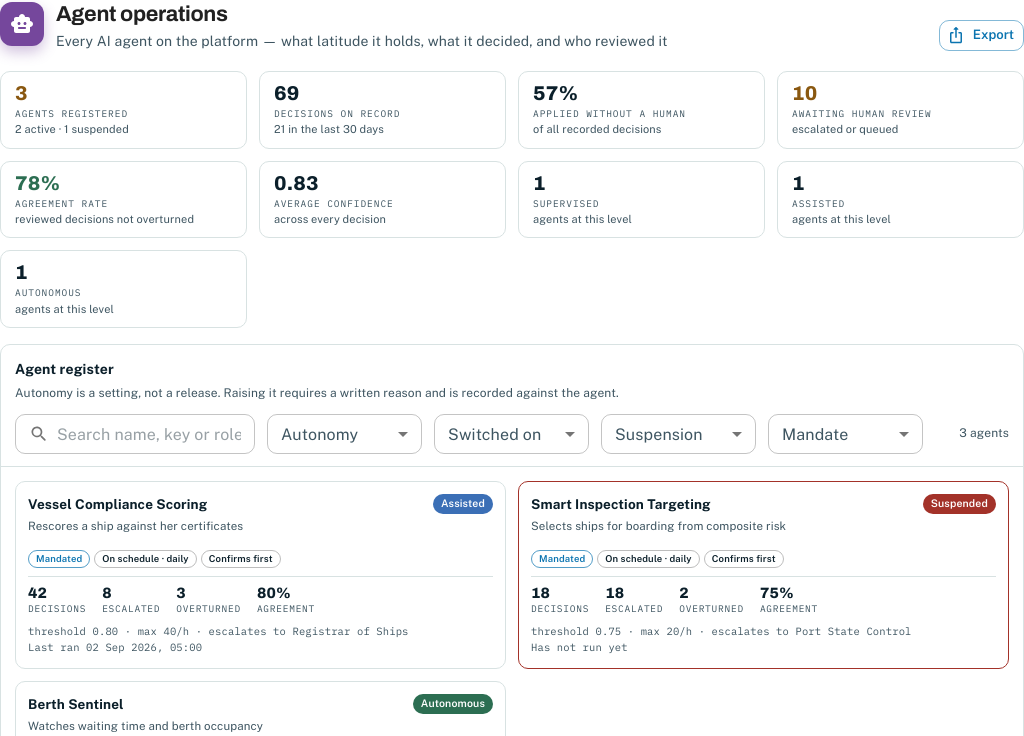
Scenario: Agent operations — the roster › refuses to suspend an agent without a written reason
Click the button with aria-label "Open Vessel Compliance Scoring" at (118, 504), box 15,481 -> 506,669
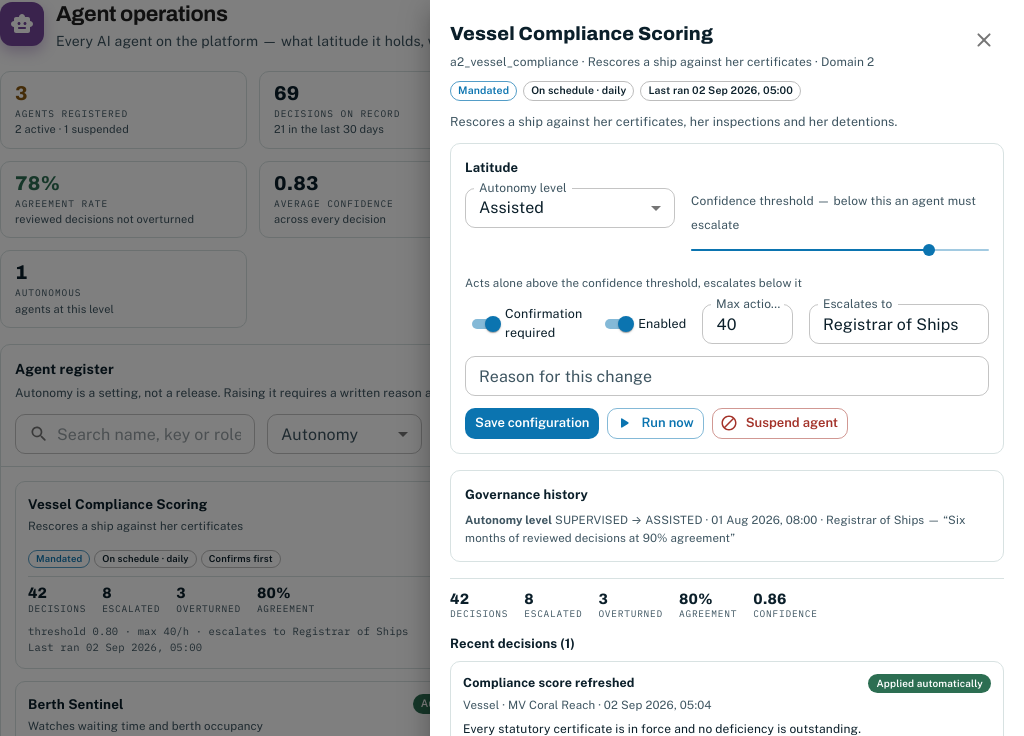
Click the button "Suspend agent" at (780, 423), box 712,408 -> 848,439
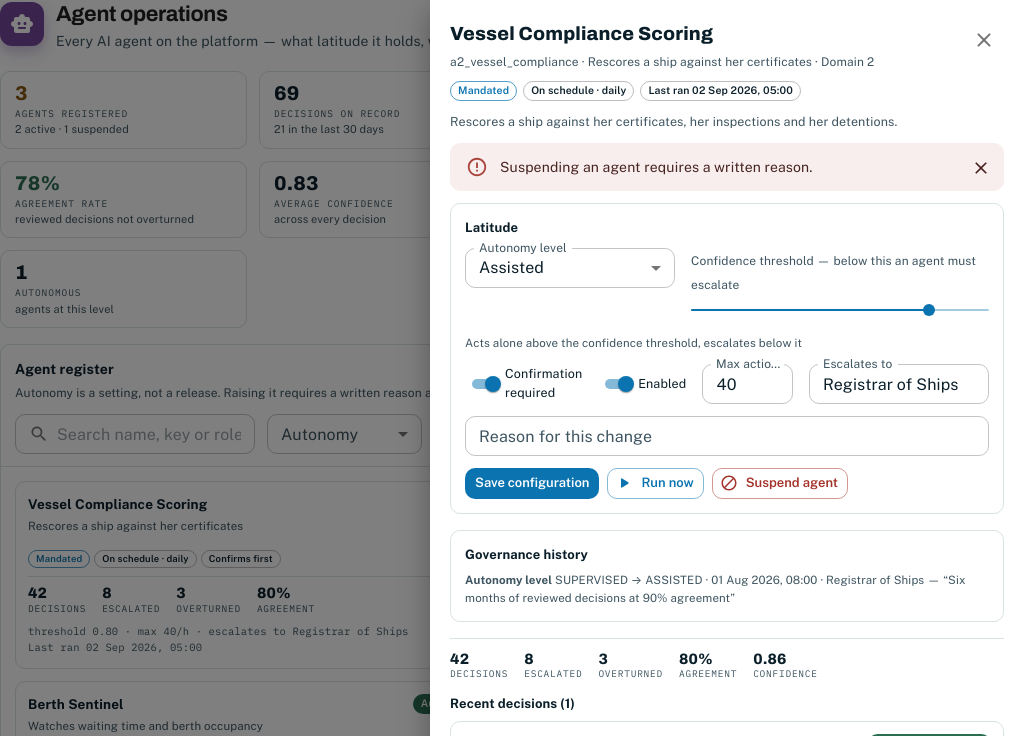
Expected: the text "Suspending an agent requires a written reason." is shown, 500,159 -> 813,175
